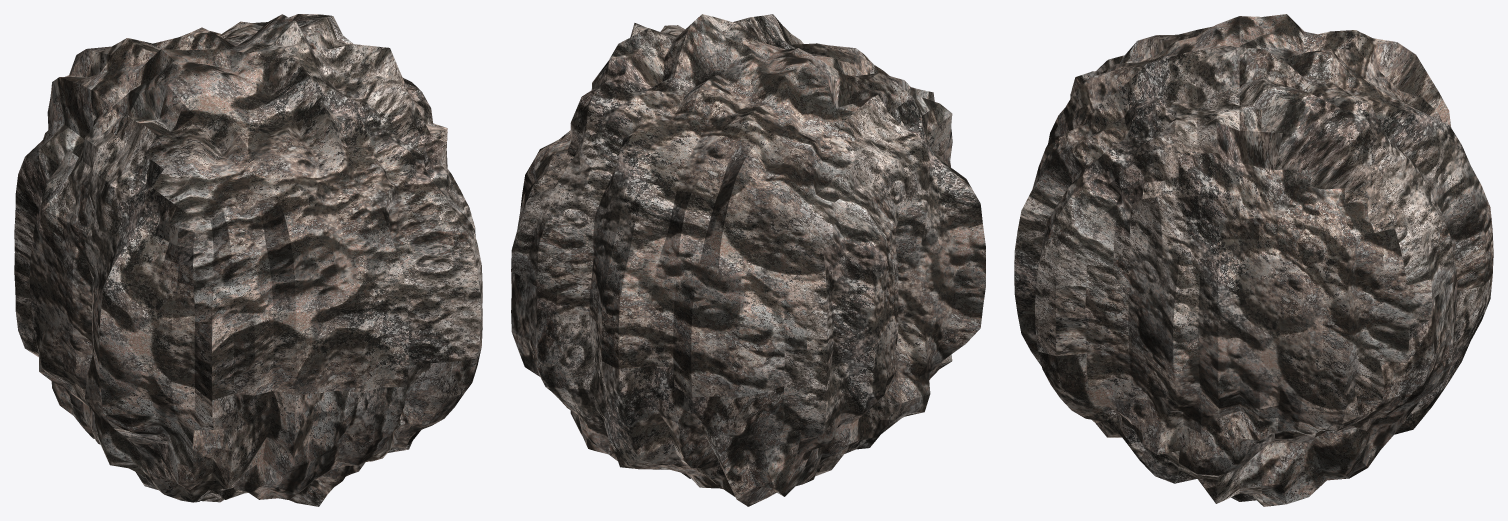
The model's file is asteroid150.obj.
3 views of the same model, side by side, from view 1: azimuth 30°, elevation 25°; view 2: azimuth 150°, elevation 25°; view 3: azimuth 270°, elevation 25° (orthographic). The views are drawn at different scales.
Visible parts, largest first — view 1: Cube_Cube.002; view 2: Cube_Cube.002; view 3: Cube_Cube.002.
Part boxes in pixels (x1,y1,x2,y2): Cube_Cube.002: (14,14,482,506); Cube_Cube.002: (511,14,985,506); Cube_Cube.002: (1014,14,1493,506).
Bounding box in the file's own units: 1.67 × 1.94 × 1.85.
